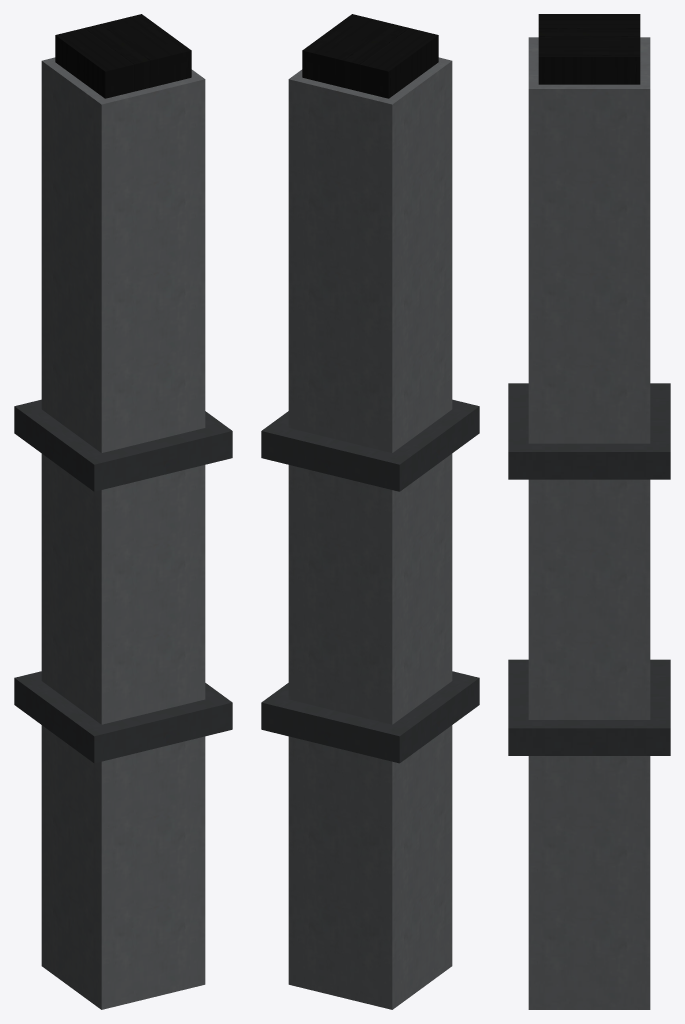
File: steel_pylon_01.glb
3 views of the same model, side by side, from view 1: azimuth 30°, elevation 25°; view 2: azimuth 150°, elevation 25°; view 3: azimuth 270°, elevation 25° (orthographic).
Visible parts, largest first — view 1: steel_pylon_01; view 2: steel_pylon_01; view 3: steel_pylon_01.
Boxes of the visible parts, x1=… form: steel_pylon_01: x1=14, y1=14, x2=232, y2=1009; steel_pylon_01: x1=261, y1=14, x2=479, y2=1009; steel_pylon_01: x1=508, y1=14, x2=670, y2=1009.
Bounding box in the file's own units: 1.6 × 10.3 × 1.6.
3 materials, 3 textured.
